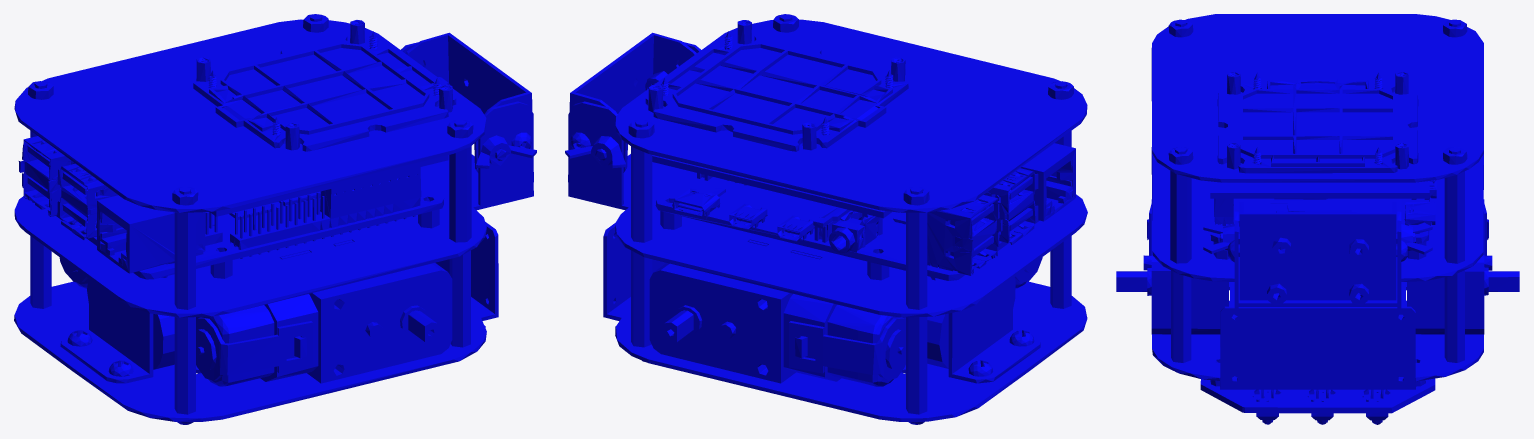
3 renders of one model, left to right at view 1: azimuth 30°, elevation 25°; view 2: azimuth 150°, elevation 25°; view 3: azimuth 270°, elevation 25°, orthographic. The views are drawn at different scales.
Visible parts, largest first — view 1: node; view 2: node; view 3: node.
Part boxes in pixels (x1,y1,x2,y2): node: [14, 14, 536, 424]; node: [565, 14, 1087, 424]; node: [1116, 14, 1519, 424].
Bounding box in the file's own units: 0.1203 × 0.103 × 0.0761.
